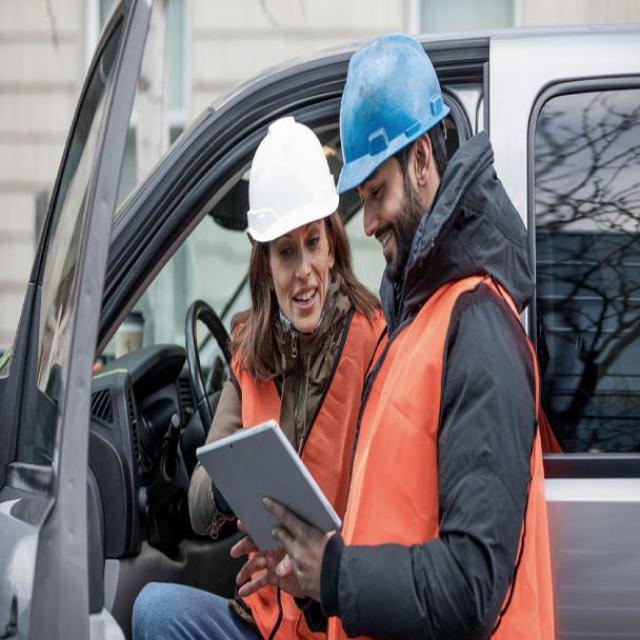helmet: (334, 31, 463, 297), (224, 93, 330, 341)
vest: (356, 295, 544, 639), (225, 332, 362, 482)
